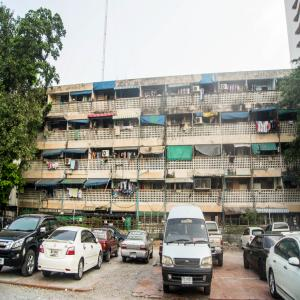Vehicle-registration-plate: (182, 277, 194, 285), (50, 250, 60, 259), (131, 252, 137, 259), (1, 257, 5, 266)
